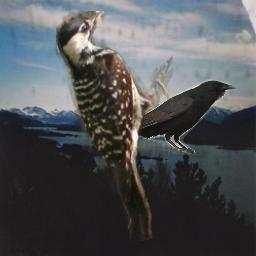Crow: (121, 79, 236, 155)
Woodpecker: (56, 11, 173, 241)
